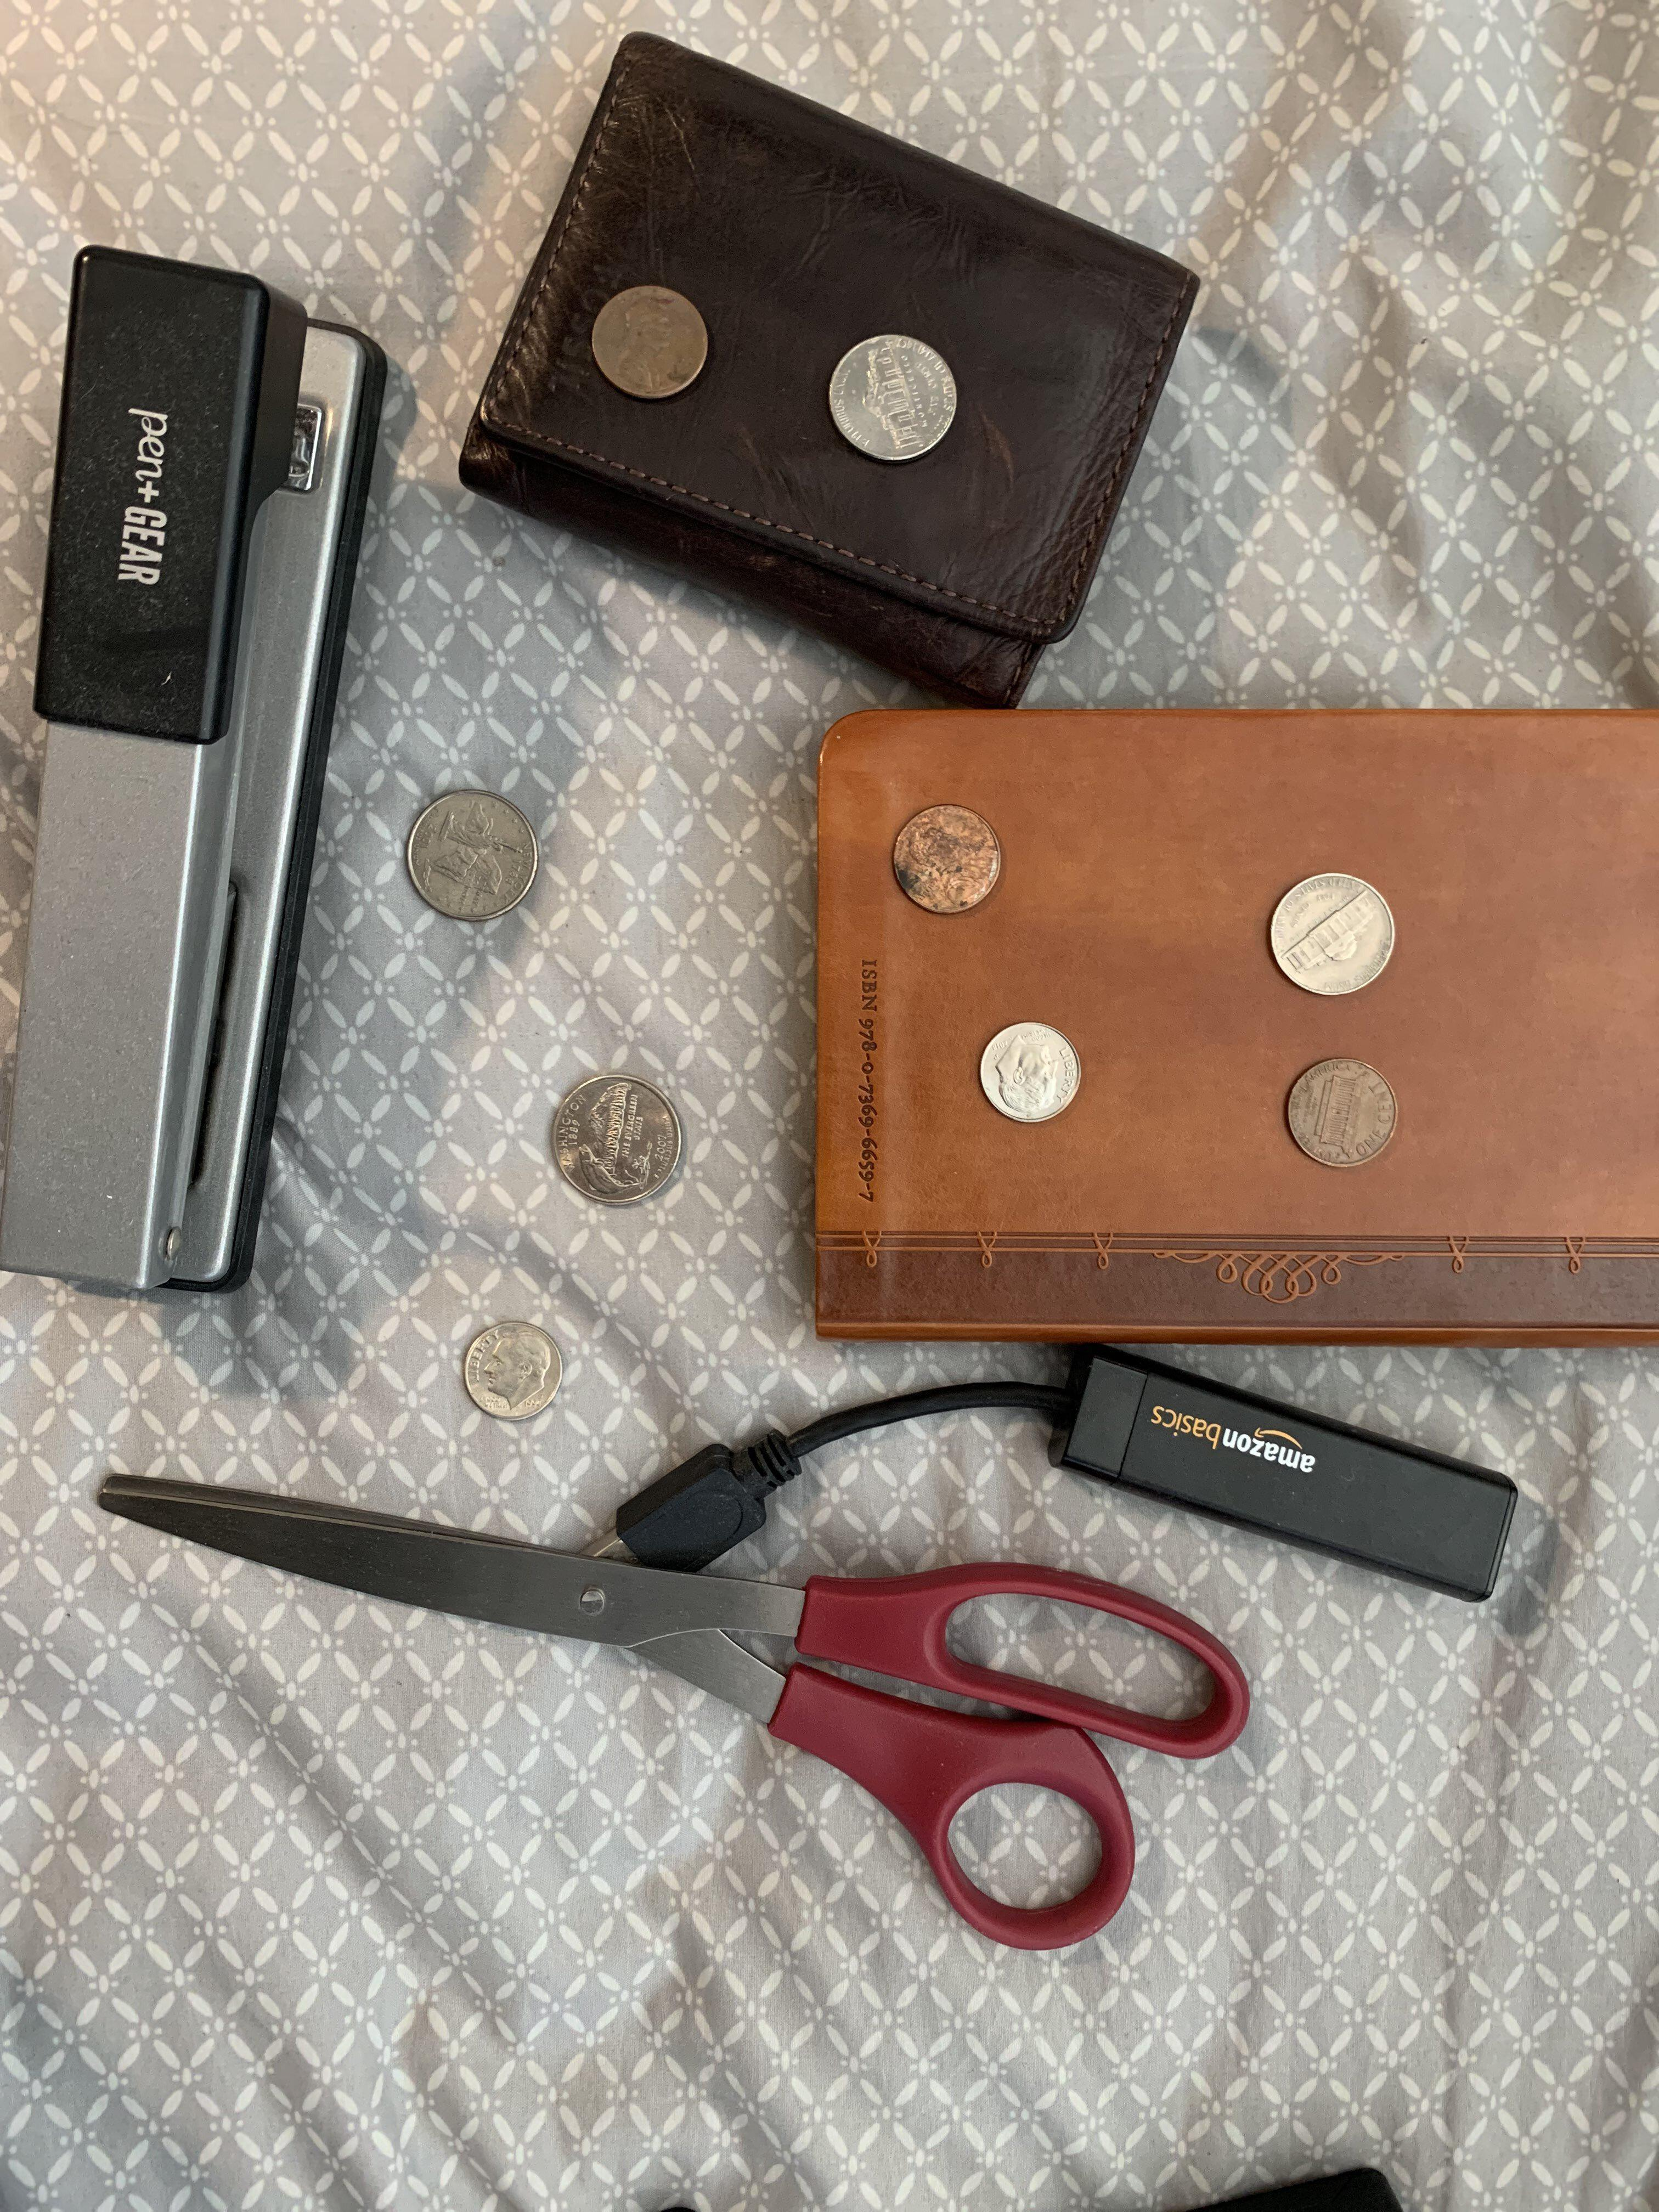Dime: (420, 1305, 596, 1428), (955, 1007, 1114, 1134)
Nickel: (798, 303, 976, 495), (1244, 862, 1419, 1012)
Penny: (1253, 1035, 1429, 1191), (565, 260, 725, 420), (871, 792, 1021, 923)
Quarter: (369, 759, 580, 949), (523, 1050, 711, 1228)
